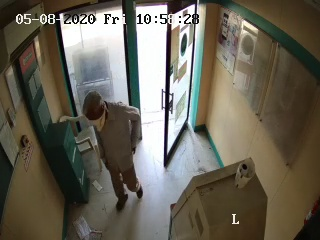open: (120, 2, 197, 170)
